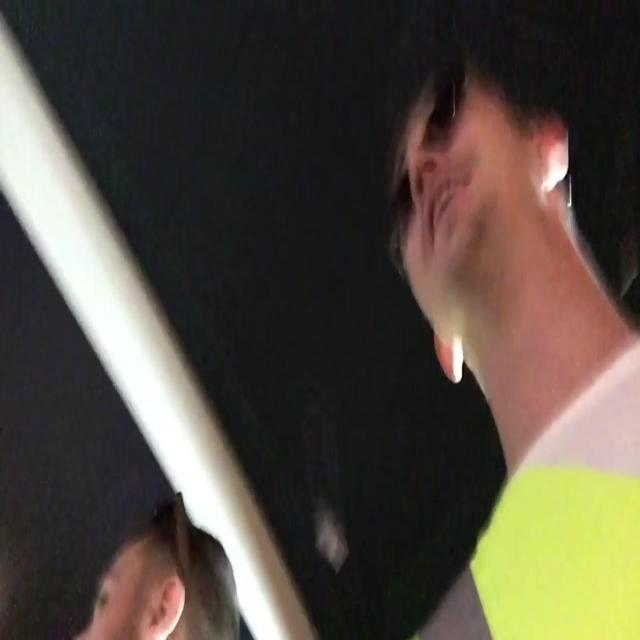vest: (406, 468, 638, 639)
